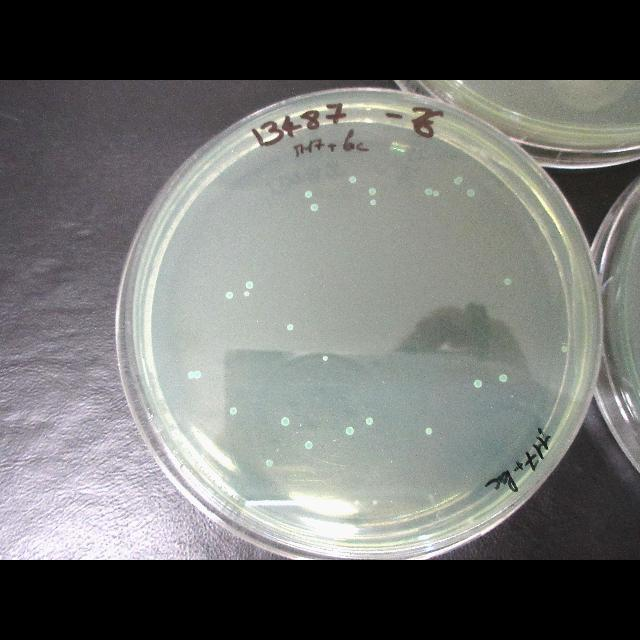colony: (192, 370, 201, 379), (345, 426, 354, 435), (454, 176, 462, 185), (281, 418, 290, 426), (474, 380, 482, 389), (499, 374, 508, 382), (246, 281, 254, 289), (310, 204, 319, 211), (466, 189, 475, 196), (265, 459, 272, 468), (305, 441, 312, 450), (349, 176, 356, 184), (366, 418, 374, 425), (561, 345, 569, 352), (305, 191, 312, 198), (369, 188, 376, 195), (425, 428, 432, 435), (226, 291, 232, 299), (188, 371, 194, 379), (425, 189, 432, 195), (504, 279, 511, 285), (230, 408, 236, 415), (288, 324, 294, 330), (322, 355, 328, 361), (432, 191, 439, 196), (244, 291, 250, 296), (370, 200, 376, 205)
